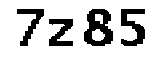5: (118, 6, 151, 51)
7: (12, 4, 44, 51)
8: (81, 5, 116, 52)
z: (46, 16, 78, 50)
